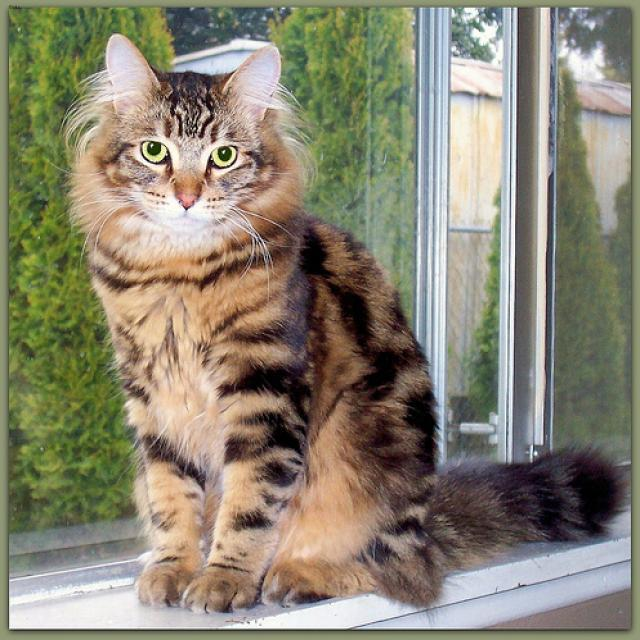Maine_Coon: (98, 32, 278, 232)
